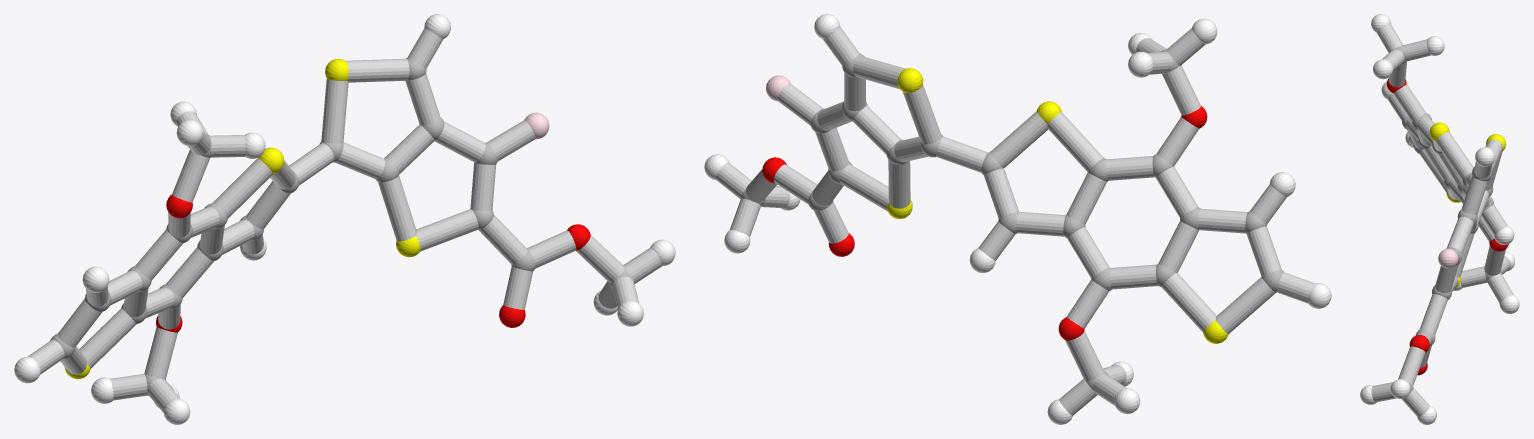
The model's file is Dimethoxy_Benzodithiophene_Phi_20_Theta_130_Methylcarbonyl_3_Fluoro_Thienothiophene.glb.
3 renders of one model, left to right at view 1: azimuth 30°, elevation 25°; view 2: azimuth 150°, elevation 25°; view 3: azimuth 270°, elevation 25°, orthographic. The views are drawn at different scales.
Parts seen in each view (by area): view 1: grp15205, grp8689, grp1, grp13395, grp7241; view 2: grp15205, grp8689, grp1, grp7241, grp13395; view 3: grp15205, grp8689, grp1, grp13395, grp7241, grp14843.
Boxes of the visible parts, left/top/right/bottom form: grp15205: left=27, top=28, right=662, bottom=412; grp8689: left=14, top=14, right=675, bottom=424; grp1: left=50, top=57, right=631, bottom=395; grp13395: left=156, top=194, right=590, bottom=332; grp7241: left=64, top=58, right=420, bottom=379; grp15205: left=715, top=26, right=1314, bottom=415; grp8689: left=704, top=14, right=1331, bottom=424; grp1: left=741, top=49, right=1283, bottom=389; grp7241: left=887, top=68, right=1228, bottom=343; grp13395: left=762, top=106, right=1207, bottom=340; grp15205: left=1371, top=24, right=1513, bottom=416; grp8689: left=1360, top=14, right=1519, bottom=424; grp1: left=1394, top=45, right=1501, bottom=392; grp13395: left=1386, top=78, right=1508, bottom=375; grp7241: left=1429, top=122, right=1505, bottom=288; grp14843: left=1438, top=248, right=1458, bottom=268.
Bounding box in the file's own units: 16.81 × 9.07 × 4.76.
